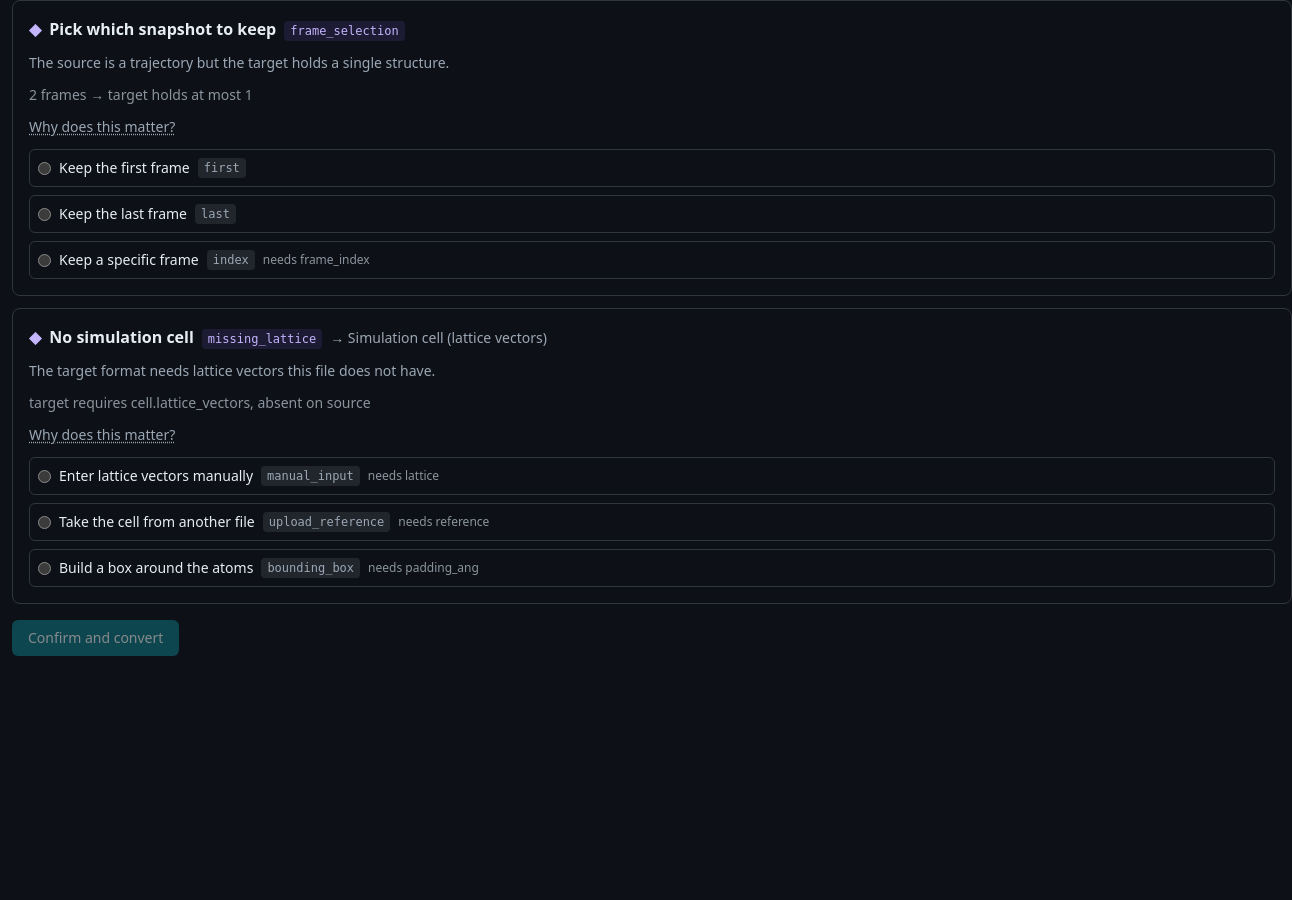
Scenario: RecoveryWizard › renders an INVALID_RECOVERY_CHOICE response with its offered_choices, verbatim
Click the radio button labelled "Keep the last frame last". click: {"x": 44, "y": 214}
box: [38,208,51,220]
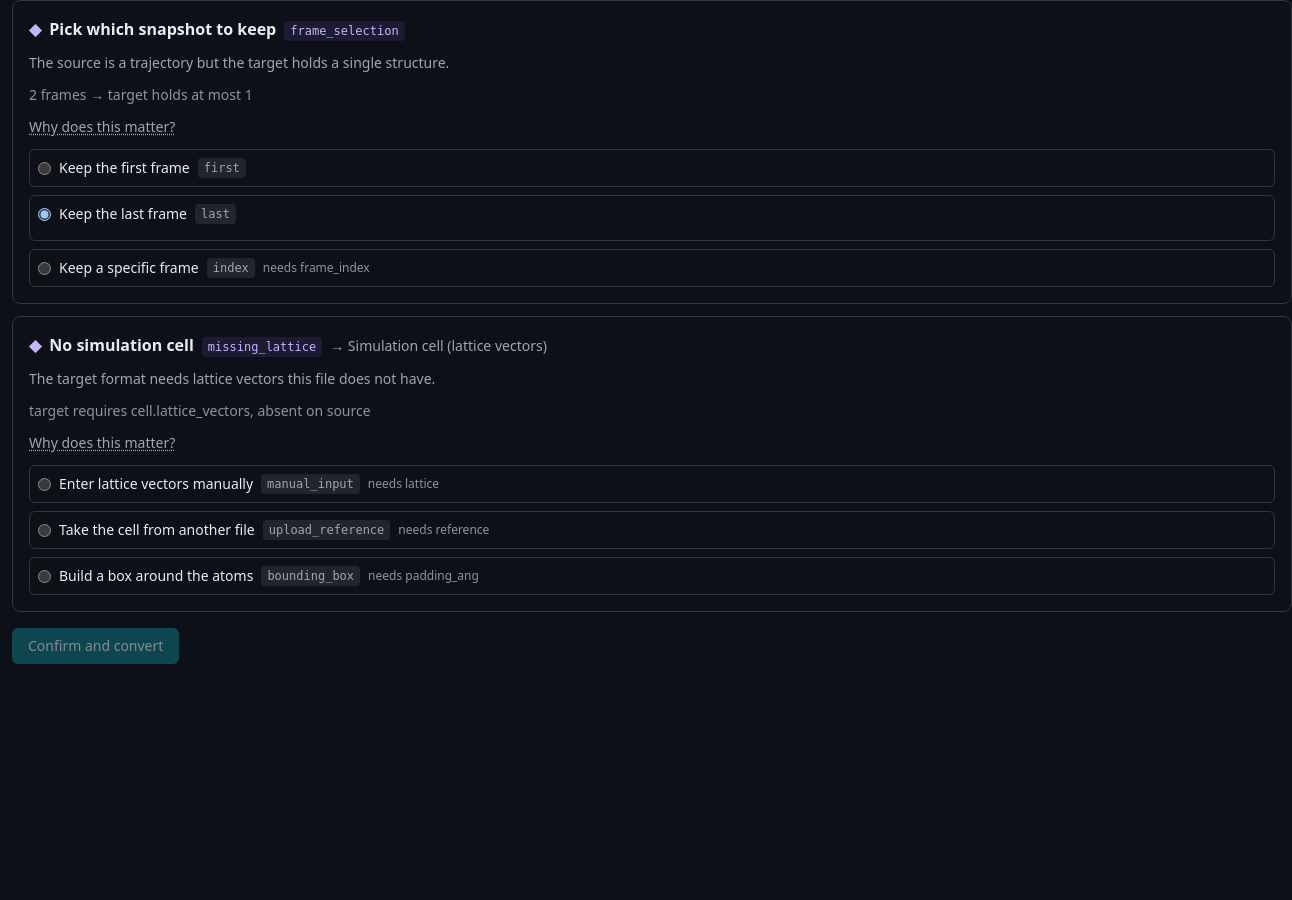
Click the radio button labelled "Build a box around the atoms bounding_box". click: {"x": 44, "y": 576}
box: [38,570,51,582]
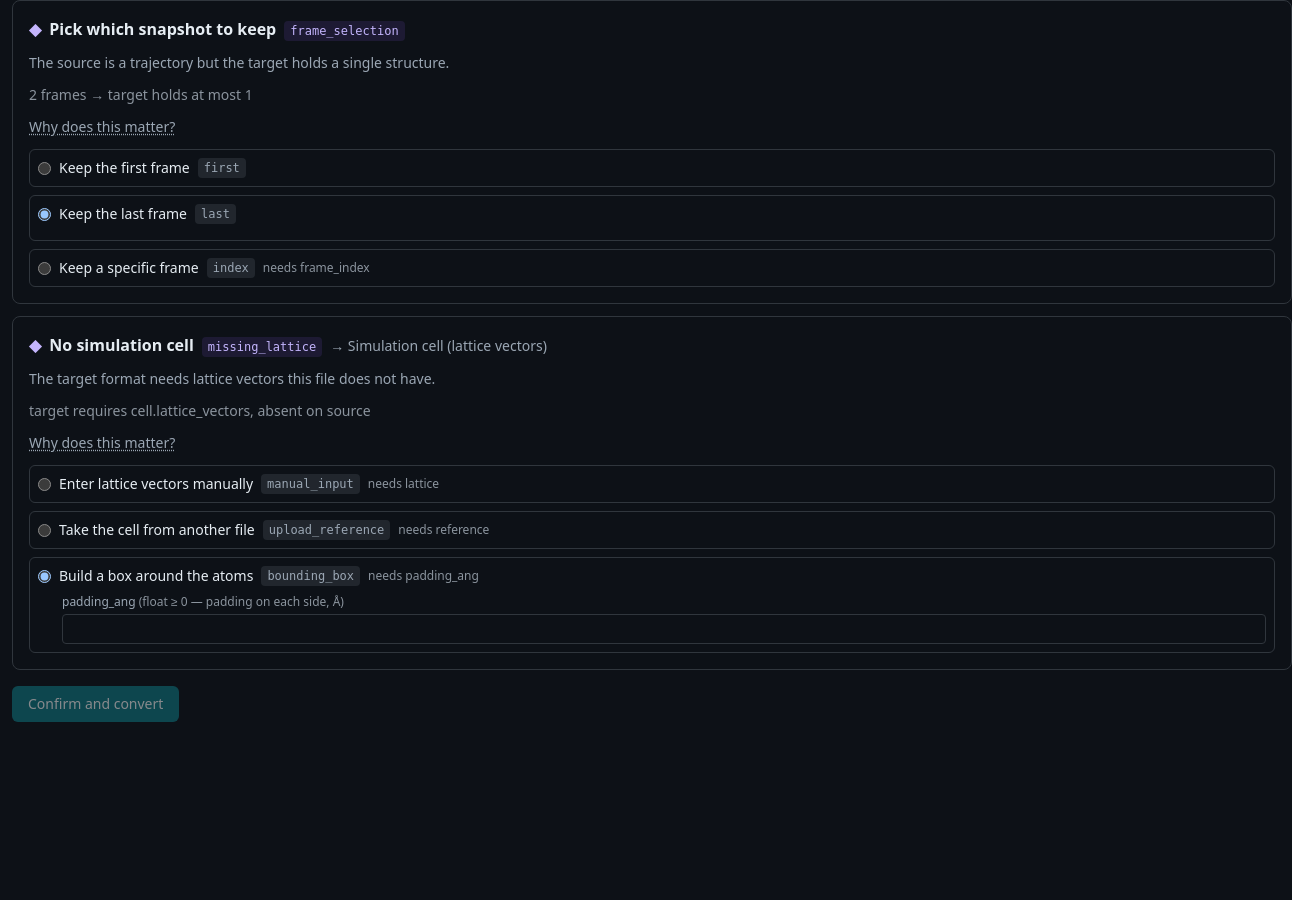
Type "5" into the number field labelled "padding_ang (float ≥ 0 — padding on each side, Å)". click: {"x": 664, "y": 629}
box: [62,614,1266,644]
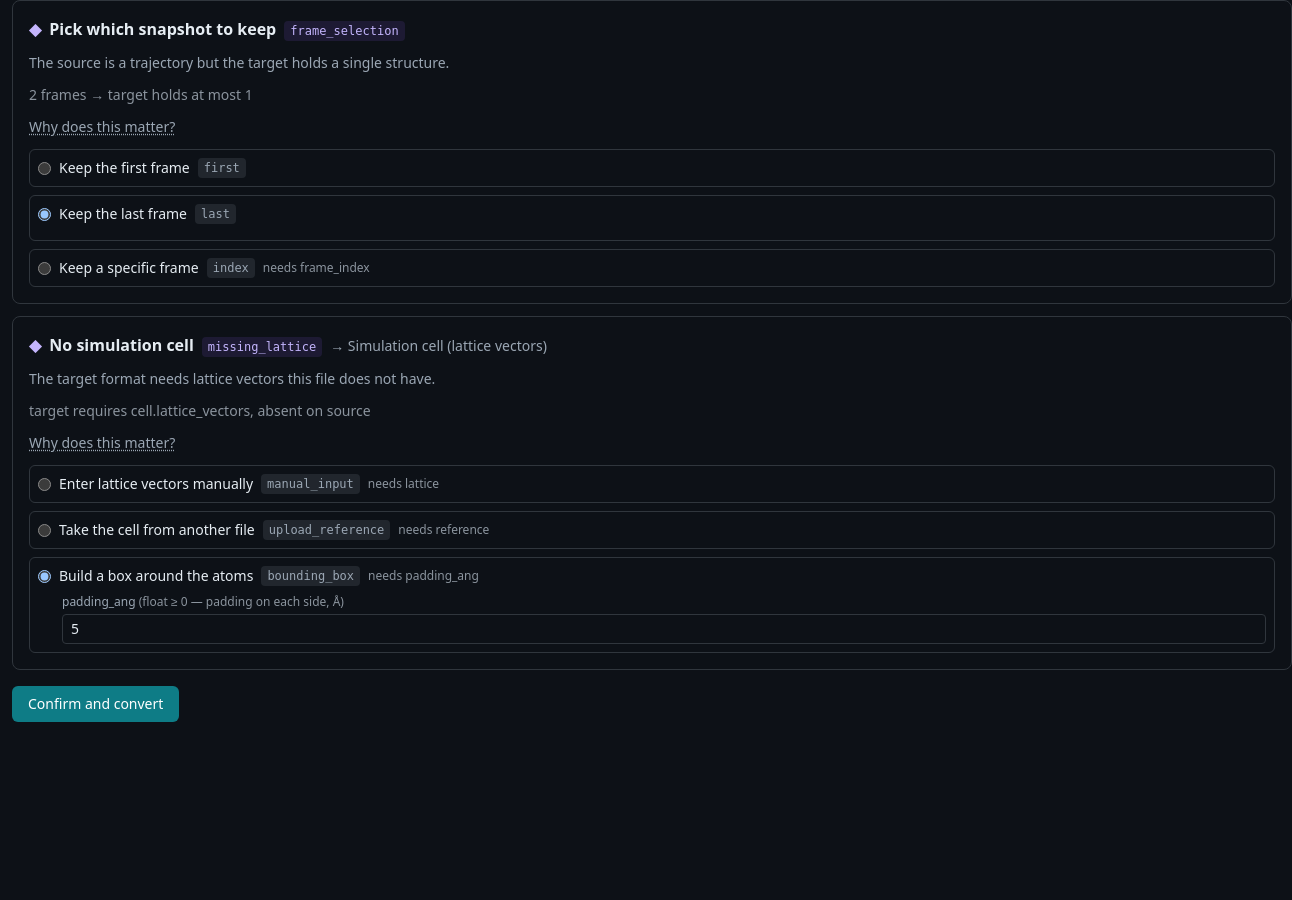
Expected: the button "Confirm and convert" is enabled
Click the button "Confirm and convert". click: {"x": 96, "y": 704}
box: [12,686,179,722]
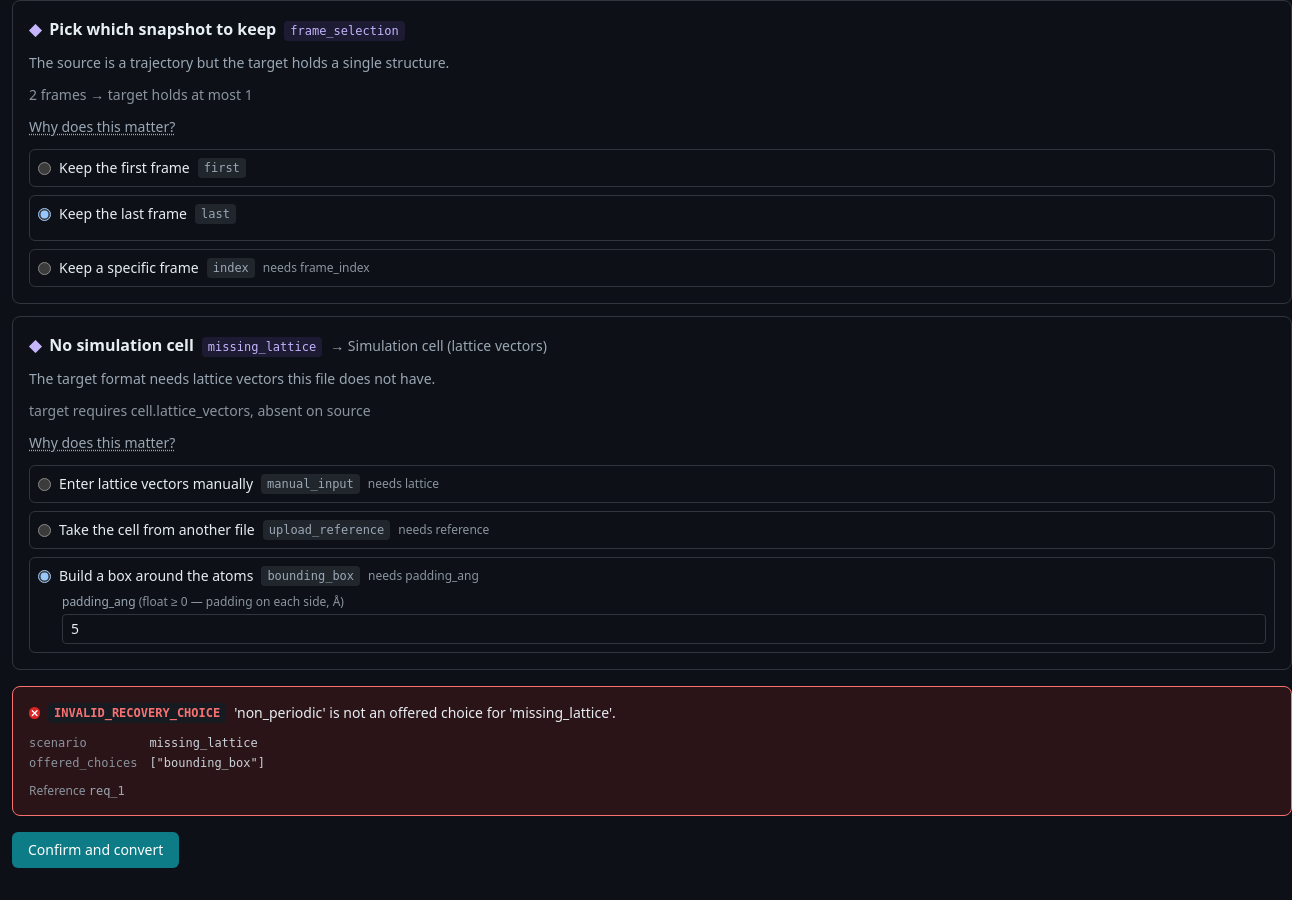
Expected: the text "INVALID_RECOVERY_CHOICE" is shown, [48,703,226,723]
Expected: the text "offered_choices" is shown, [29,755,137,771]
Expected: the text "[\"bounding_box\"]" is shown, [149,756,265,770]
